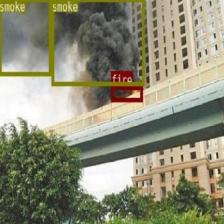fire: (111, 84, 142, 100)
smoke: (51, 0, 144, 85), (0, 0, 51, 75)
